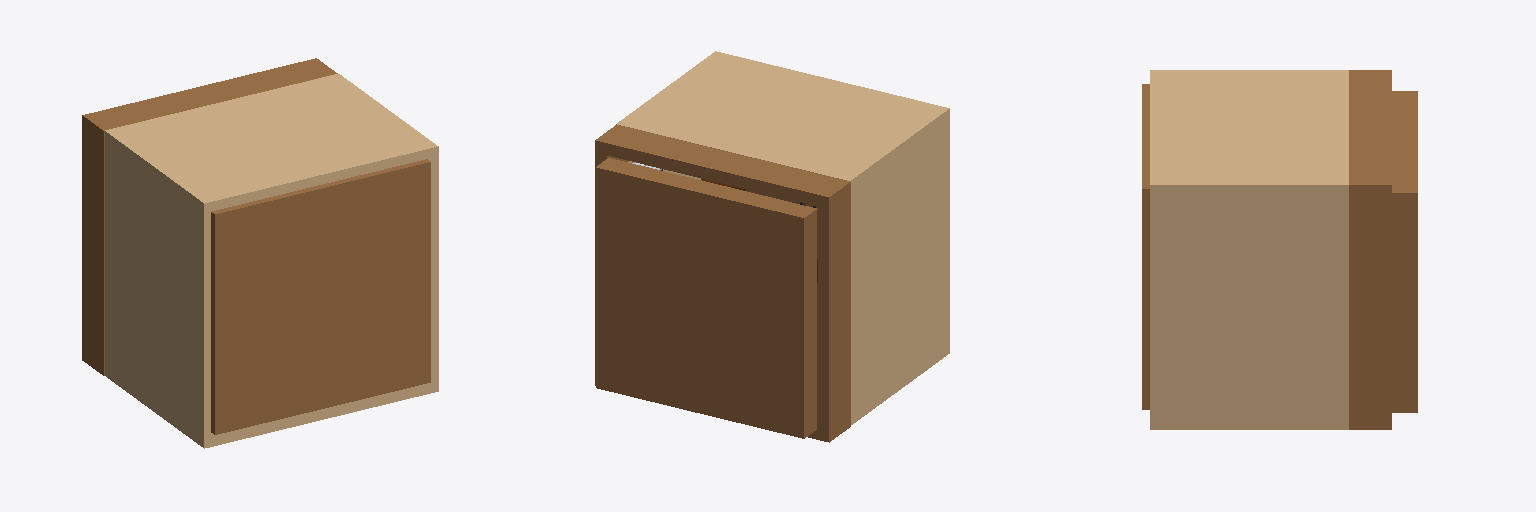
Rendered from tinker.obj.
3 renders of one model, left to right at view 1: azimuth 30°, elevation 25°; view 2: azimuth 150°, elevation 25°; view 3: azimuth 270°, elevation 25°, orthographic.
Visible parts, largest first — view 1: obj_0; view 2: obj_0; view 3: obj_0.
Boxes of the visible parts, <box> form: obj_0: <box>82,58,438,448</box>; obj_0: <box>595,51,949,442</box>; obj_0: <box>1142,70,1417,429</box>.
Size of the model in its own units: 202 by 211 by 205.